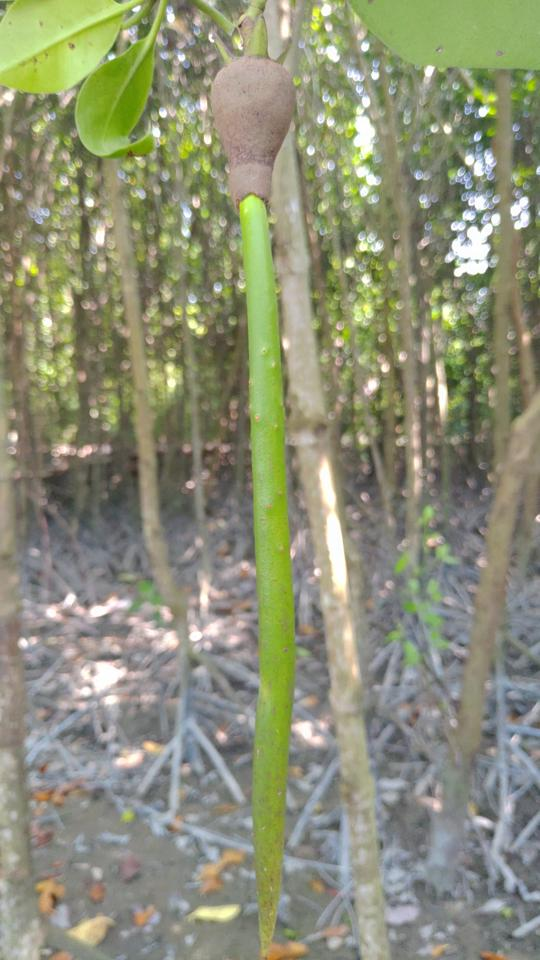mentah: (196, 43, 333, 945)
